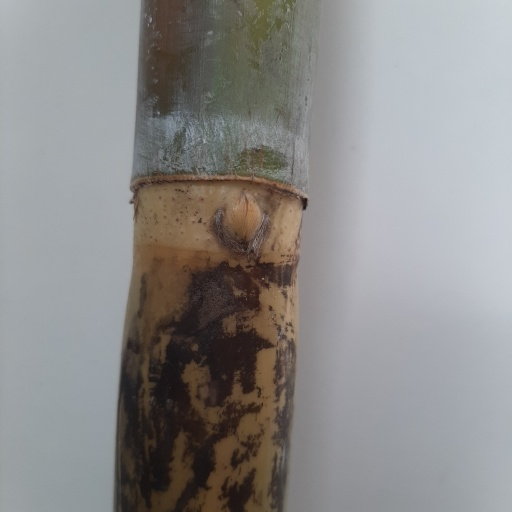Bud: (224, 187, 265, 251)
